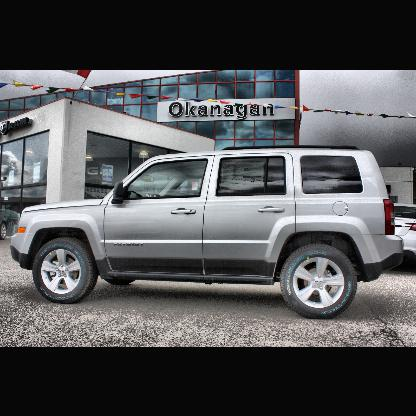Jeep Patriot SUV 2012: (10, 144, 407, 328)
